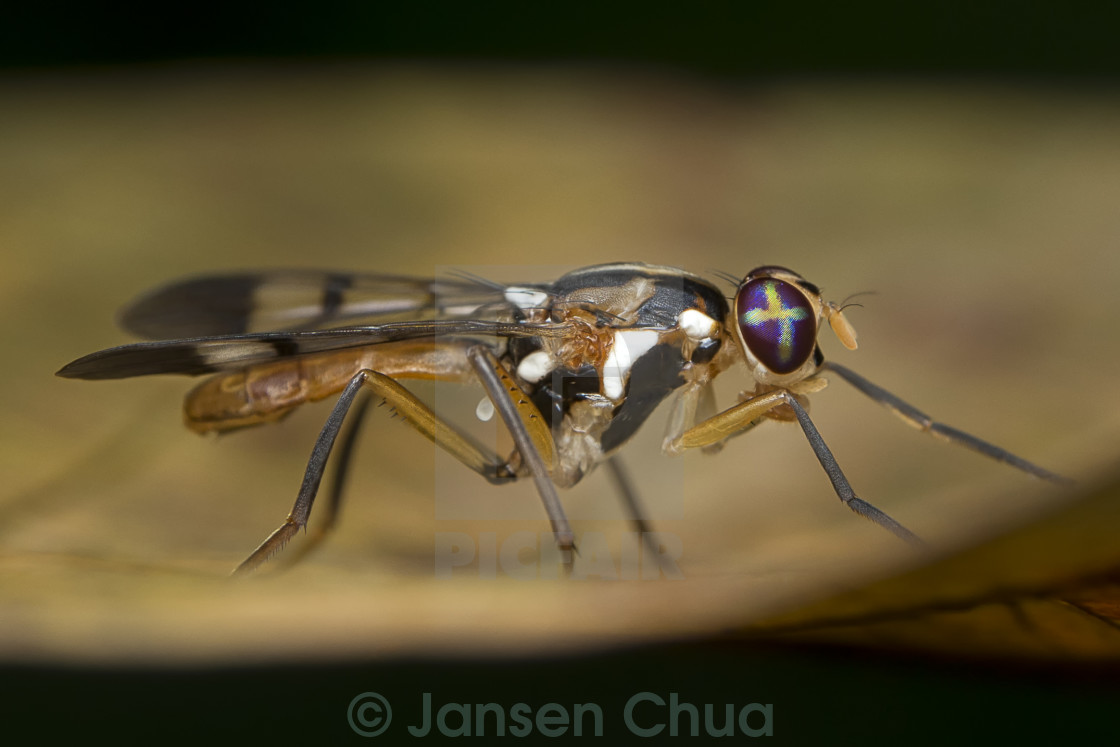Fruit fly: (54, 200, 976, 591)
